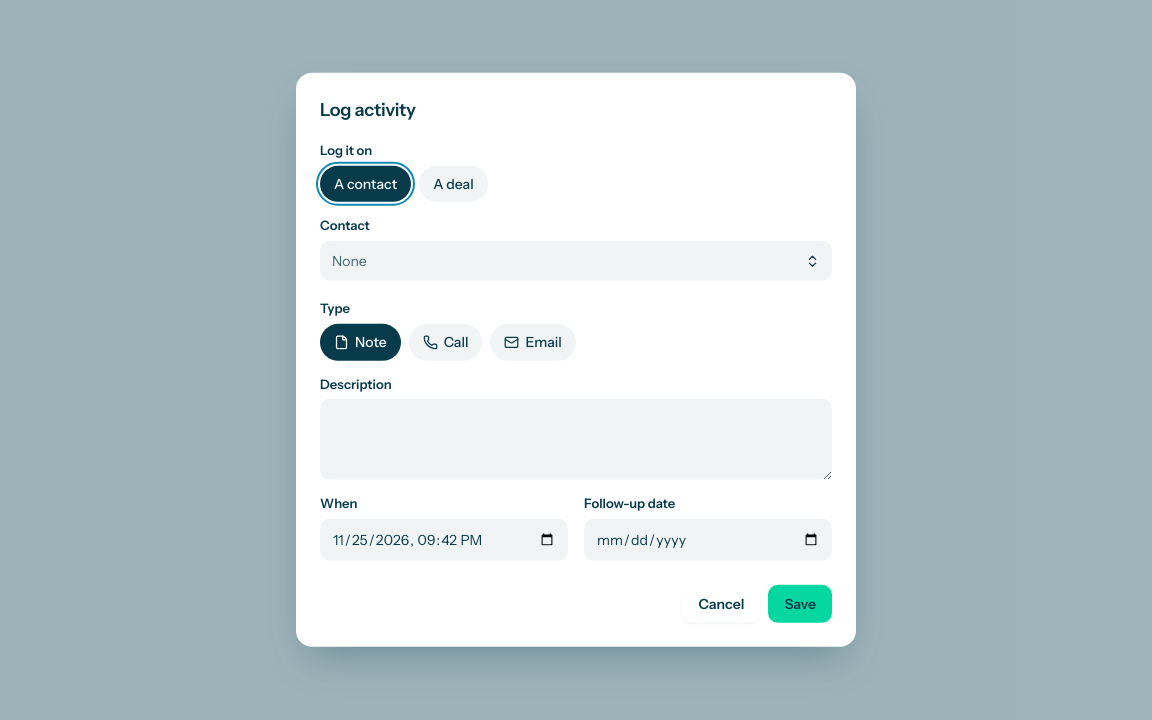
Test: logging an activity from the dashboard › offers no deals when they can't be loaded
The image size is (1152, 720).
Click the radio button labelled "A deal" at (454, 184), box [419,166,488,202]
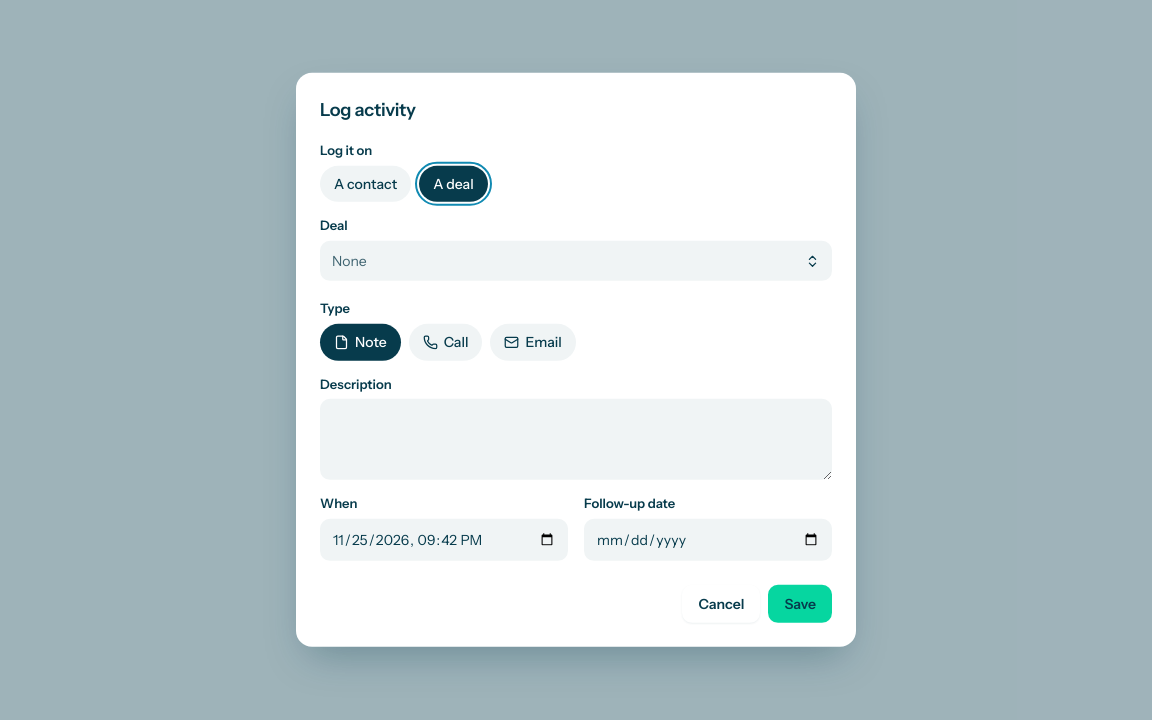
Click the button named "Deal" at (349, 261), box [320,241,832,281]
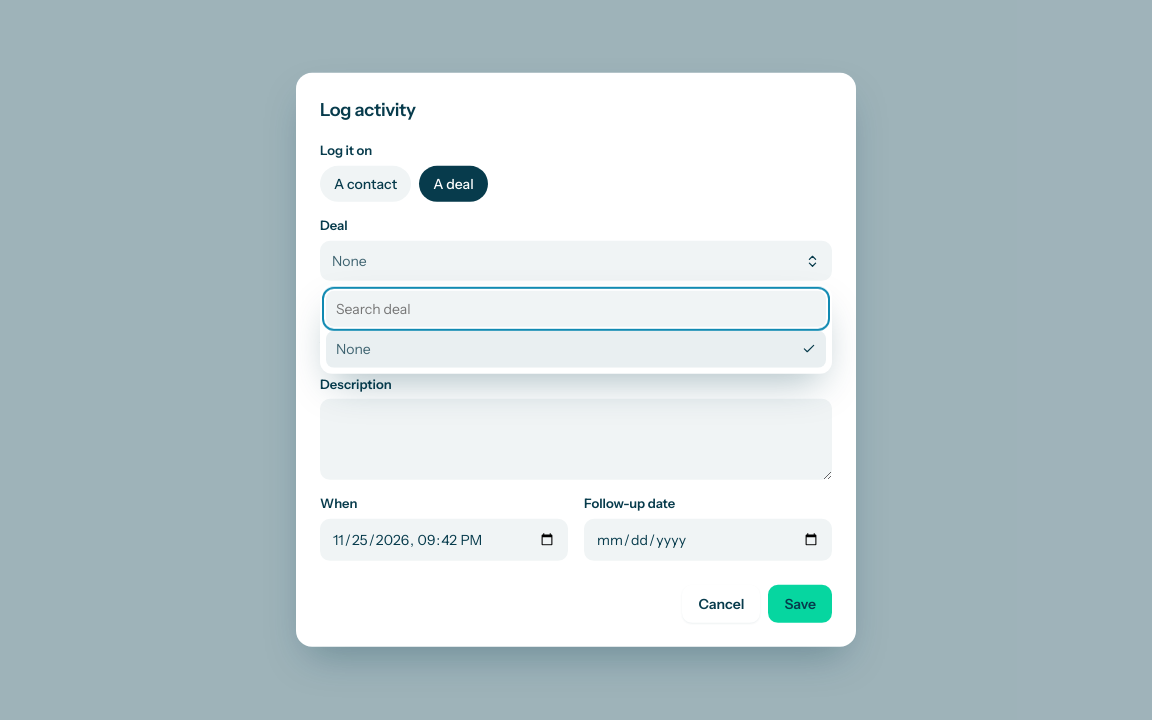
Expected: the number of options is 1, [326,331,826,367]
Expected: the option reads "None", [326,331,826,367]
